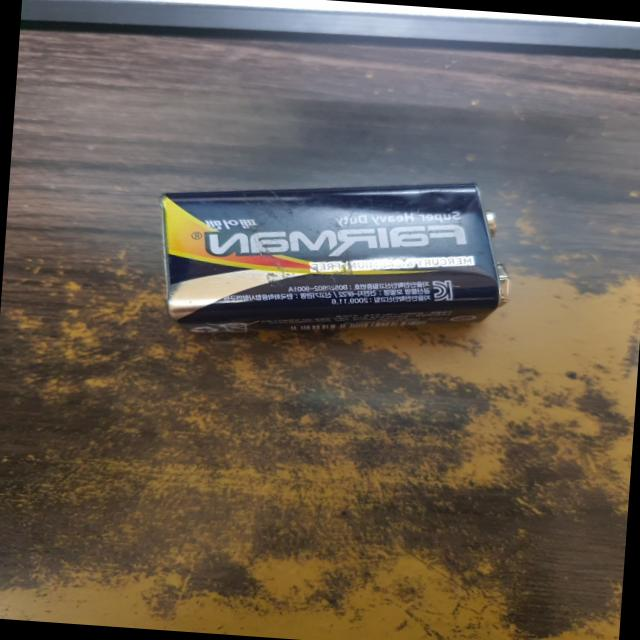battery-etc-etc: (144, 149, 516, 362)
